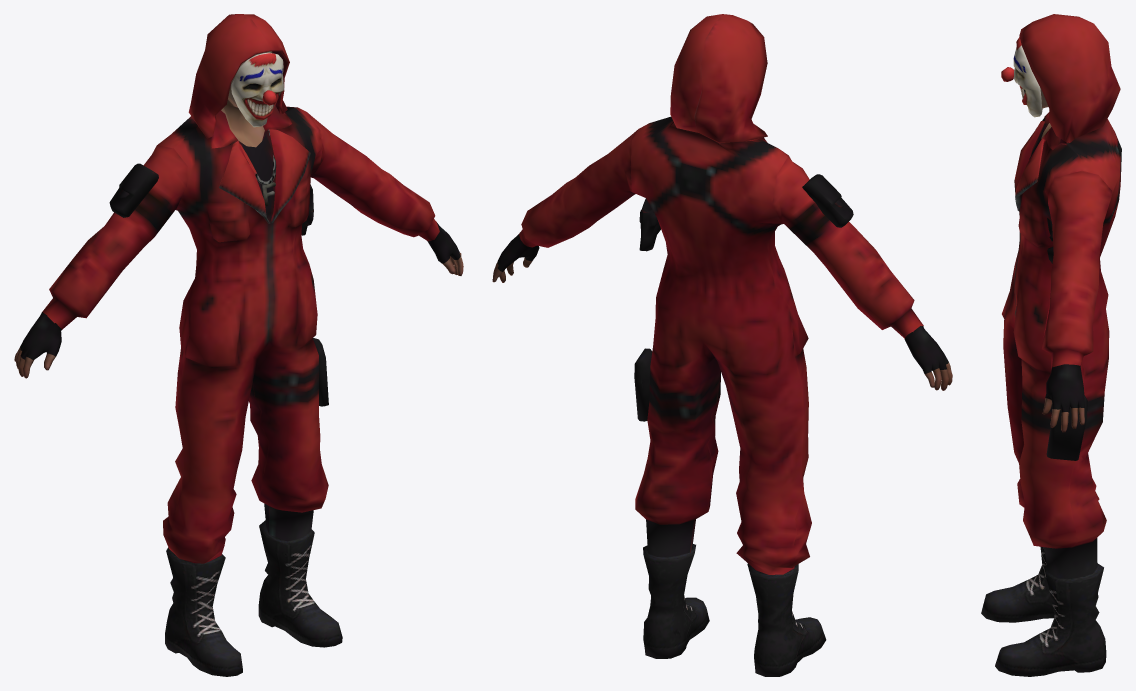
Rendered from Top_Criminal_Red.FBX.
The picture shows the model from 3 angles, left to right: view 1: azimuth 30°, elevation 25°; view 2: azimuth 150°, elevation 25°; view 3: azimuth 270°, elevation 25°; orthographic projection. The views are drawn at different scales.
Visible parts, largest first — view 1: Red; view 2: Red; view 3: Red.
Part boxes in pixels (<box>): Red: <box>14,14,463,676</box>; Red: <box>492,14,952,676</box>; Red: <box>981,14,1121,676</box>.
Size of the model in its own units: 1.37 by 1.85 by 0.3766.
